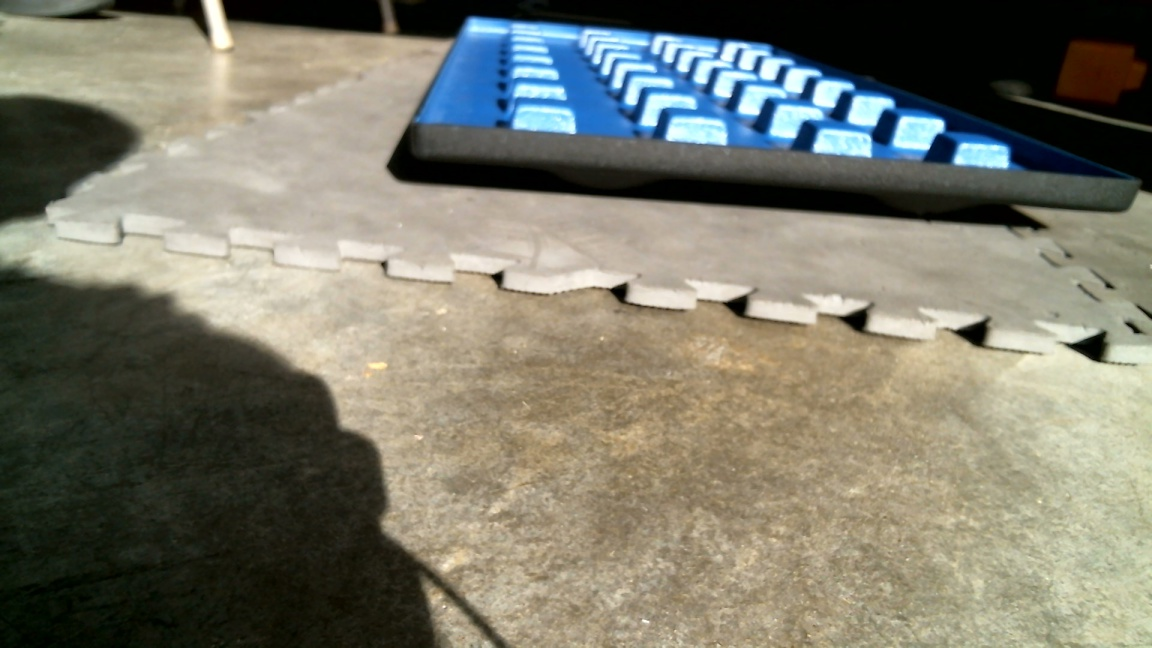blue_foundation: (408, 13, 1113, 253)
